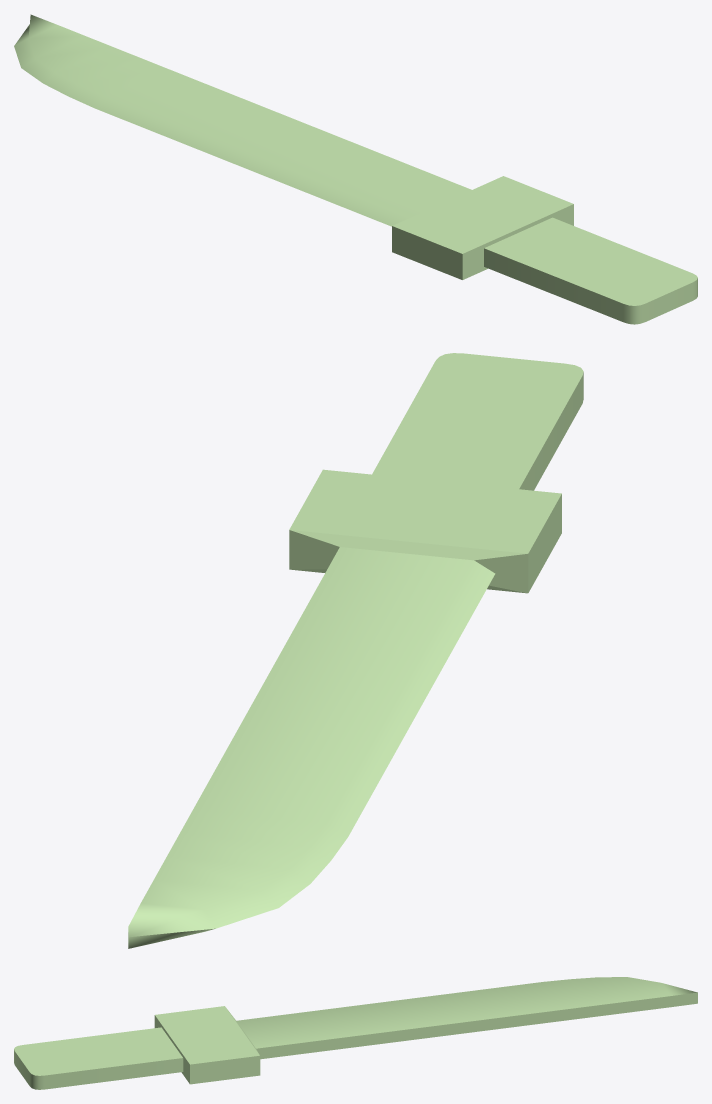
File: shuiguodao.fbx
The picture shows the model from 3 angles, top to bottom: view 1: azimuth 30°, elevation 25°; view 2: azimuth 150°, elevation 25°; view 3: azimuth 270°, elevation 25°; orthographic projection. The views are drawn at different scales.
Parts seen in each view (by area): view 1: 水果刀; view 2: 水果刀; view 3: 水果刀.
Boxes of the visible parts, x1,y1,x2,y2 form: 水果刀: (14,14,697,324); 水果刀: (128,353,583,948); 水果刀: (14,977,697,1089).
Bounding box in the file's own units: 1.48 × 0.1307 × 4.08.
